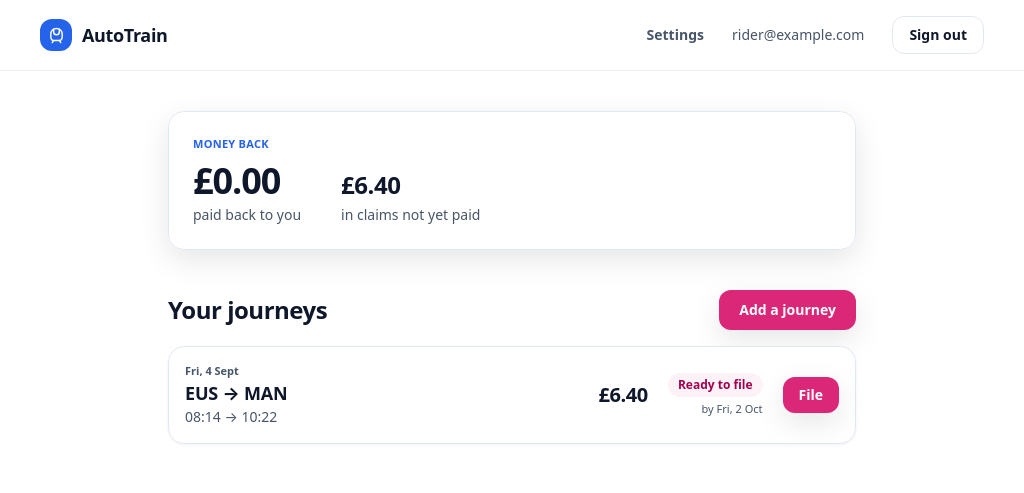
Test case: Dashboard › files a claim: asks the API for the operator's page and shows the link
Click the button "File" at (811, 395), box [782,377,839,413]
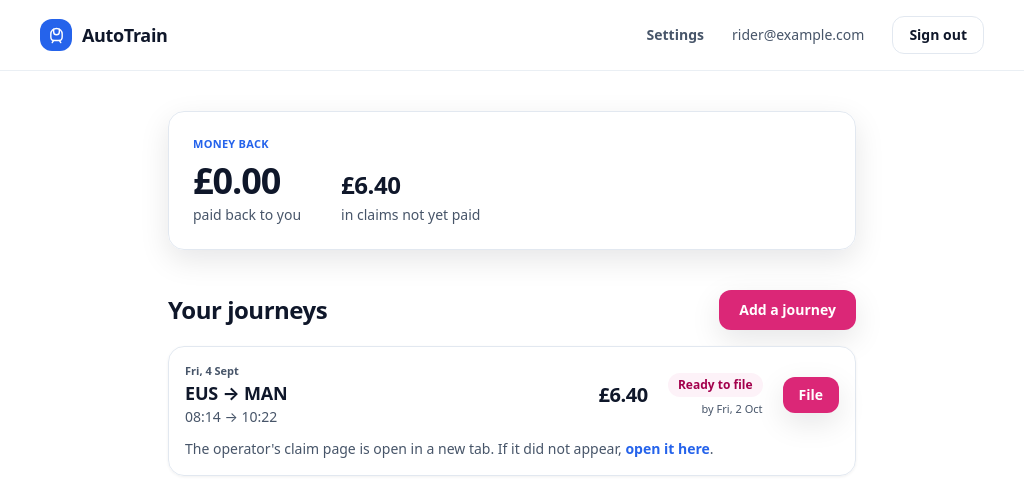
Expected: the link "open it here" is shown, [625,439,710,458]
